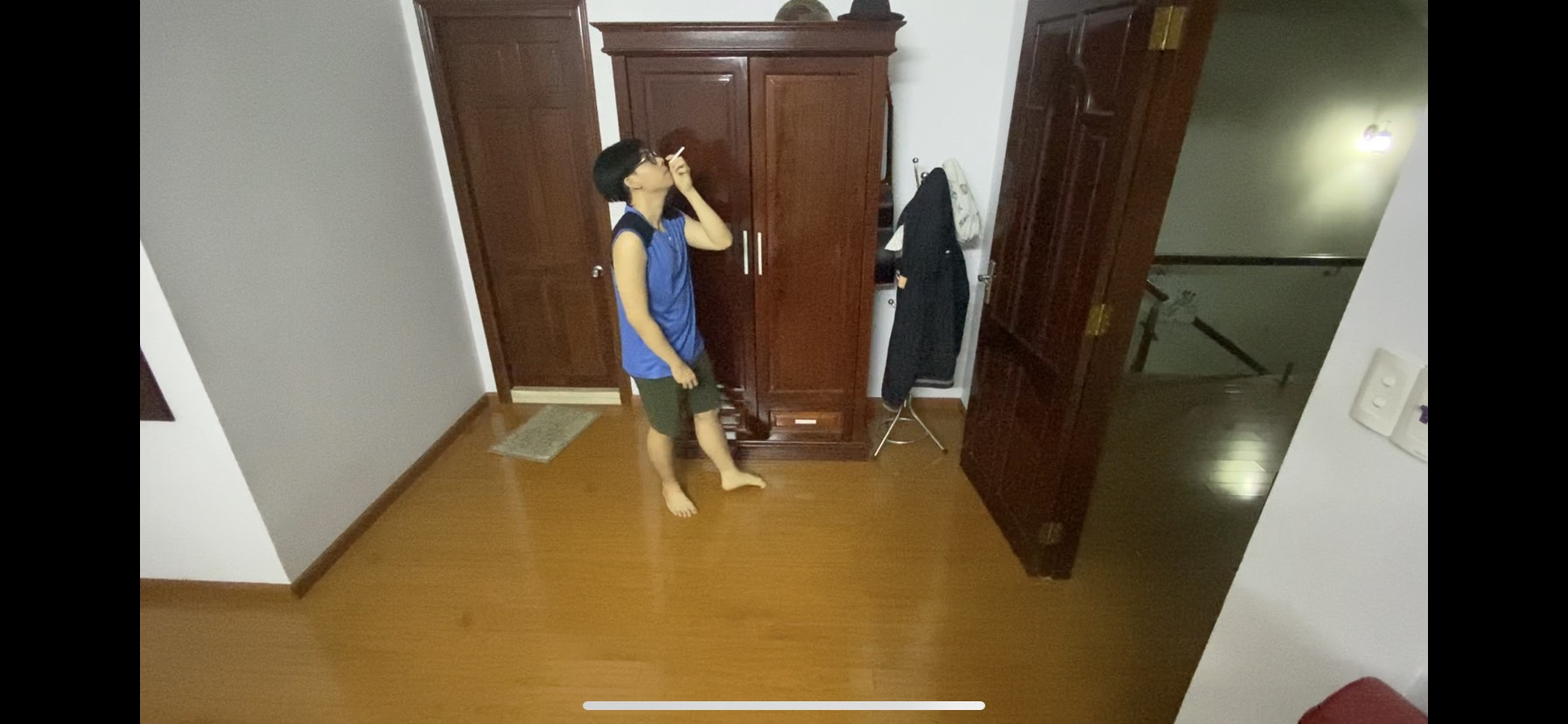cigarette: (669, 143, 694, 156)
person: (587, 124, 778, 522)
